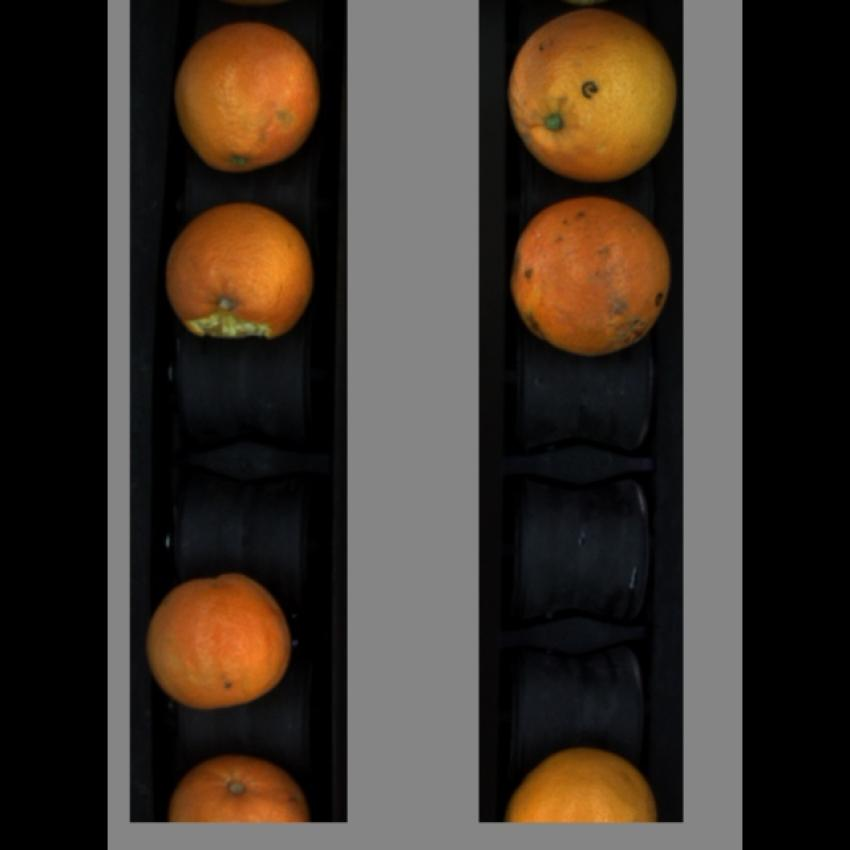Mal estado: (506, 187, 672, 353), (511, 11, 677, 177), (163, 197, 312, 346), (144, 571, 294, 716), (173, 23, 315, 170), (166, 746, 316, 822), (510, 745, 658, 820)
